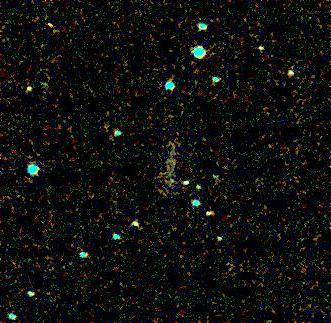star: (158, 166, 188, 196)
